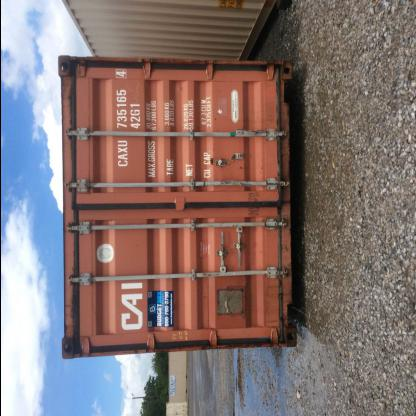Damage: (260, 266, 298, 328), (59, 308, 85, 356), (240, 176, 268, 219)
